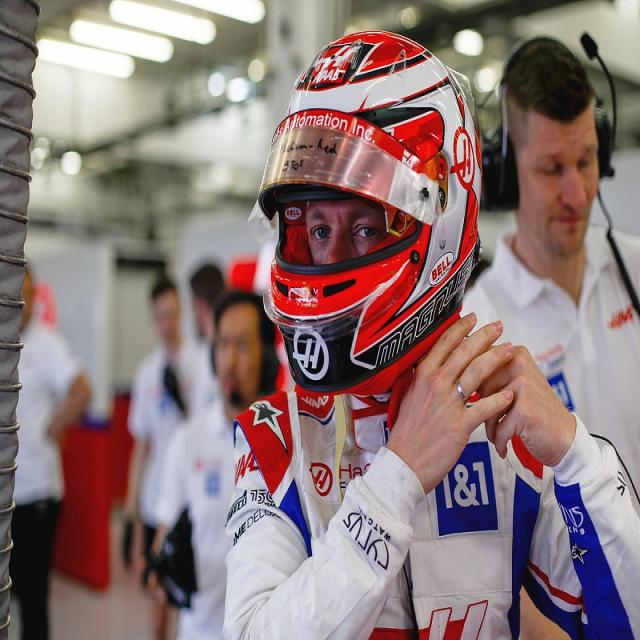Helm: (249, 28, 486, 400)
